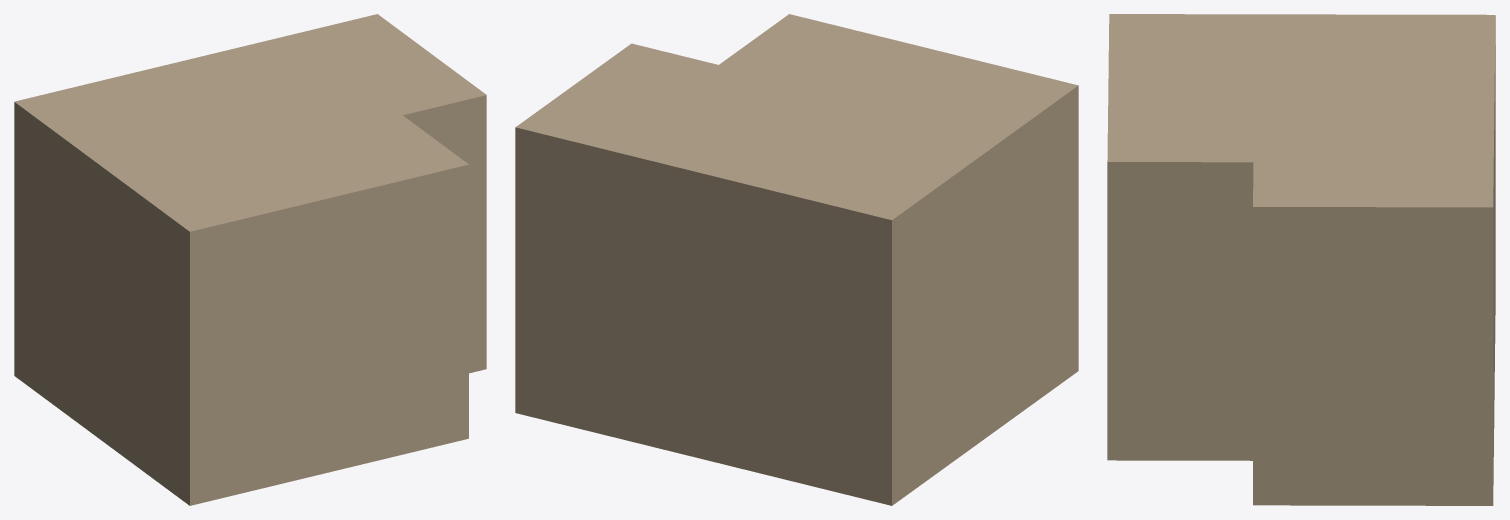
File: bld_106796868.dae
3 views of the same model, side by side, from view 1: azimuth 30°, elevation 25°; view 2: azimuth 150°, elevation 25°; view 3: azimuth 270°, elevation 25° (orthographic). The views are drawn at different scales.
Parts seen in each view (by area): view 1: bld_106796868; view 2: bld_106796868; view 3: bld_106796868.
Boxes of the visible parts, <box> form: bld_106796868: <box>14,14,486,505</box>; bld_106796868: <box>515,14,1078,505</box>; bld_106796868: <box>1107,14,1495,505</box>.
Size of the model in its own units: 11.12 by 9.42 by 8.
